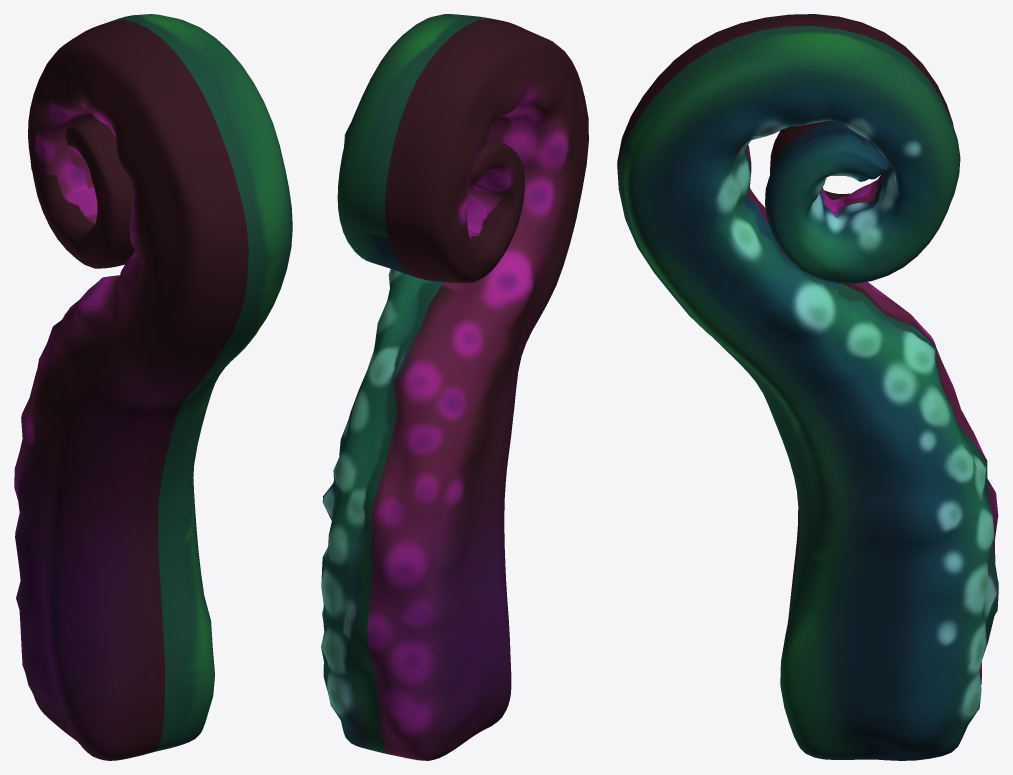
Rendered from tenticle_done1.fbx.
The picture shows the model from 3 angles, left to right: view 1: azimuth 30°, elevation 25°; view 2: azimuth 150°, elevation 25°; view 3: azimuth 270°, elevation 25°; orthographic projection. The views are drawn at different scales.
Parts seen in each view (by area): view 1: pCube1; view 2: pCube1; view 3: pCube1.
Part boxes in pixels (bbox=[...]): pCube1: bbox=[14, 14, 292, 760]; pCube1: bbox=[321, 14, 588, 760]; pCube1: bbox=[617, 14, 998, 760].
Bounding box in the file's own units: 4.45 × 20.09 × 9.68.
